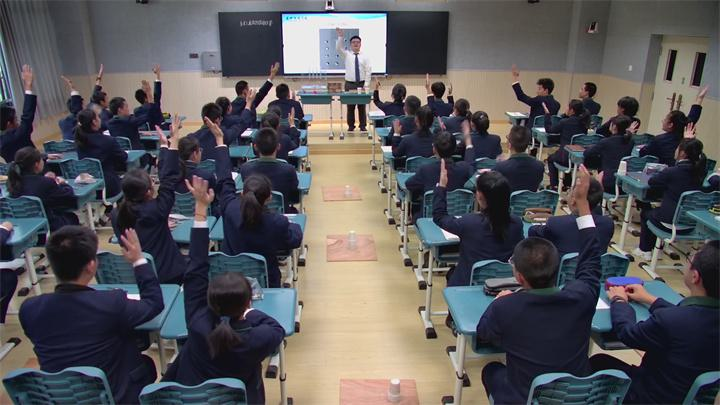hands-up: (476, 169, 603, 373), (185, 177, 273, 377), (23, 230, 149, 341), (432, 158, 517, 253), (208, 119, 301, 198), (127, 123, 166, 251), (3, 62, 41, 145), (660, 86, 714, 136), (423, 71, 475, 121), (499, 68, 558, 106), (232, 62, 284, 101), (141, 62, 169, 127), (372, 76, 410, 114), (90, 64, 111, 112)
listen: (612, 243, 715, 366), (580, 117, 624, 169)
